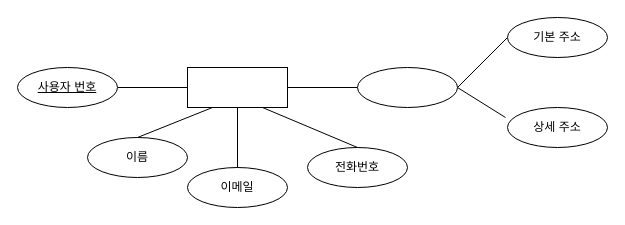
Some shapes in this 625 by 225 pixel diagram are drawn without their labels. Here are the shapes that lost their labels. From the top down, the centre of each, then its label:
At (x=237, y=87): "사용자".
At (x=407, y=87): "주소".
